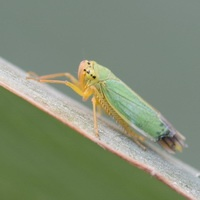insect: (27, 60, 185, 152)
